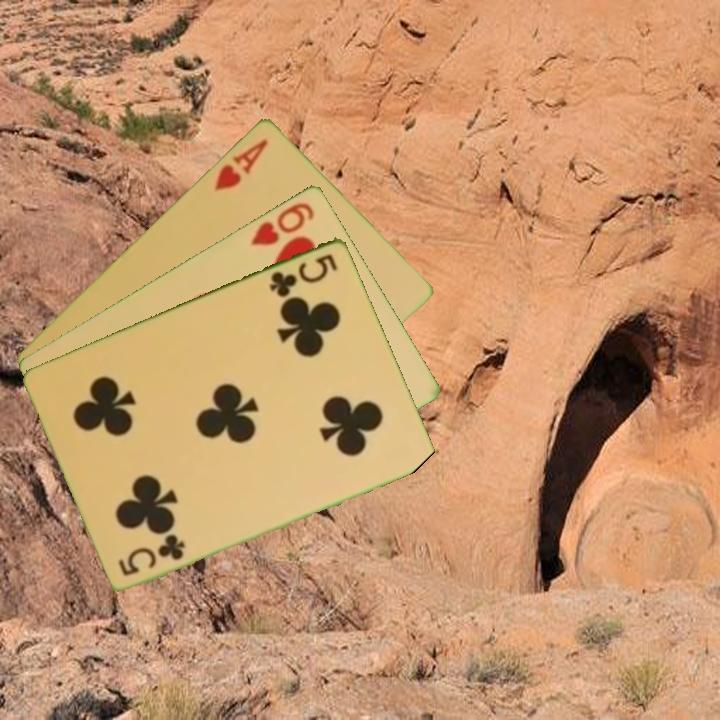5c: (265, 249, 341, 300), (115, 533, 188, 578)
6h: (247, 198, 318, 248)
Ah: (210, 135, 271, 194)
